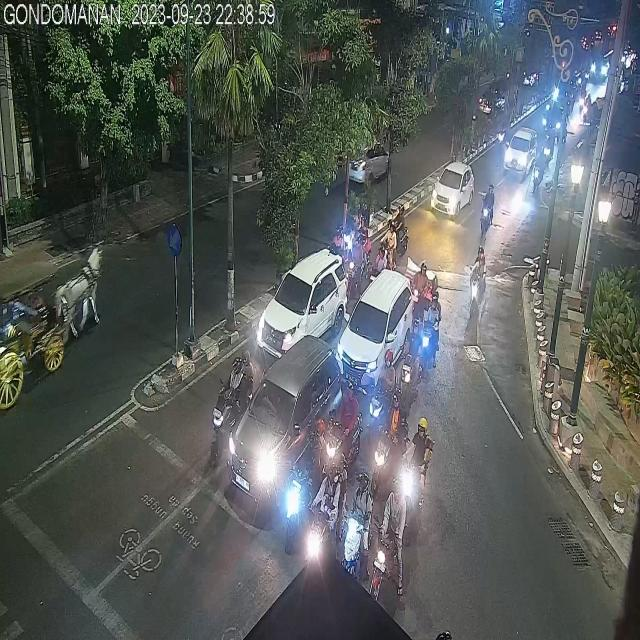car: (225, 334, 342, 521), (332, 268, 413, 382), (257, 251, 346, 354), (430, 162, 474, 218), (342, 140, 394, 185), (503, 128, 537, 178)
motorcycle: (370, 478, 409, 616), (209, 352, 252, 466), (307, 461, 349, 572), (400, 416, 438, 526), (326, 372, 364, 478), (370, 395, 404, 503), (343, 477, 374, 591), (424, 292, 441, 378), (468, 248, 488, 318), (479, 184, 495, 241)
